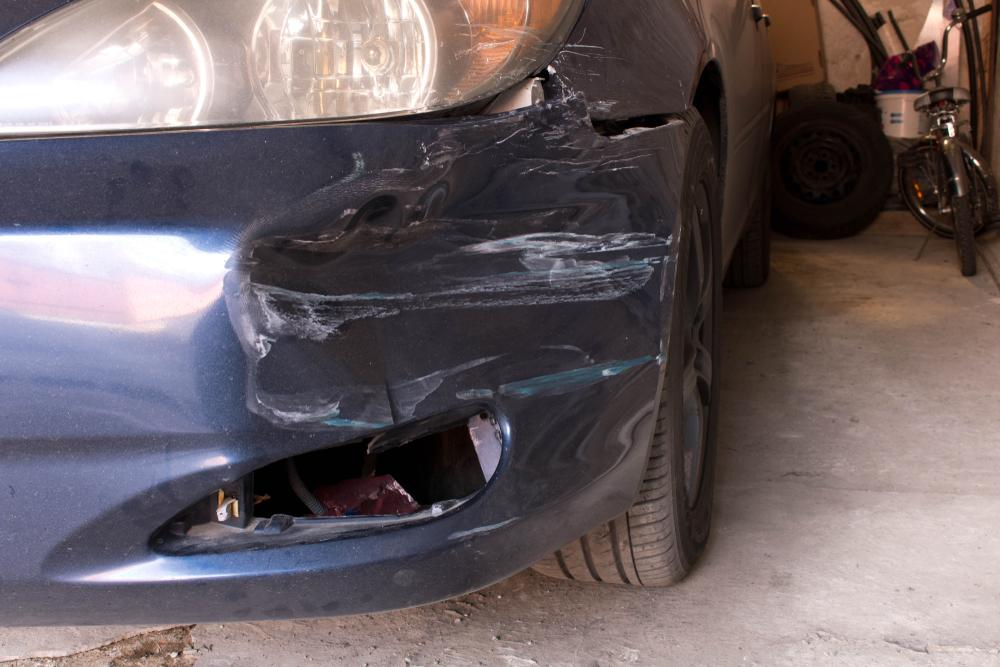crack: (384, 366, 399, 427)
dent: (232, 144, 677, 428)
